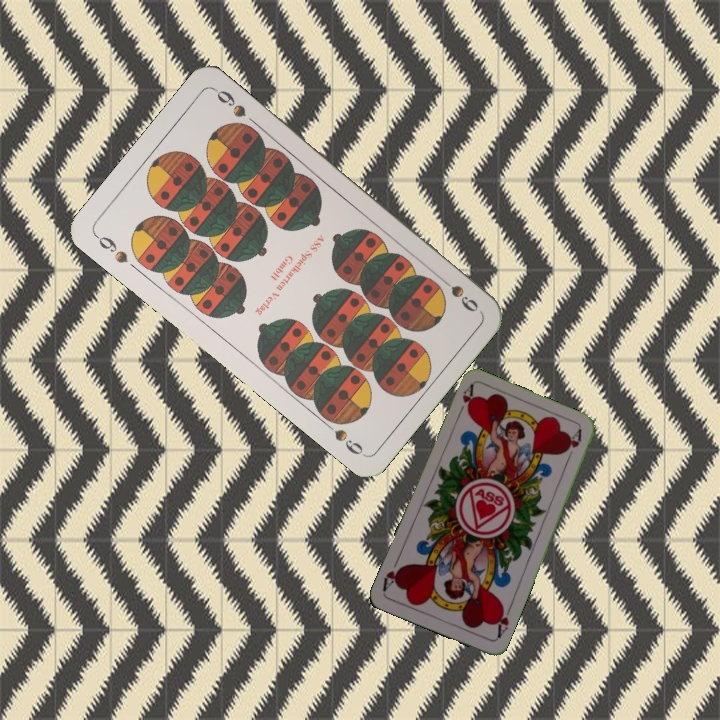HA: (491, 601, 514, 641), (453, 381, 476, 420)
S9: (432, 271, 481, 315), (91, 230, 131, 267)
